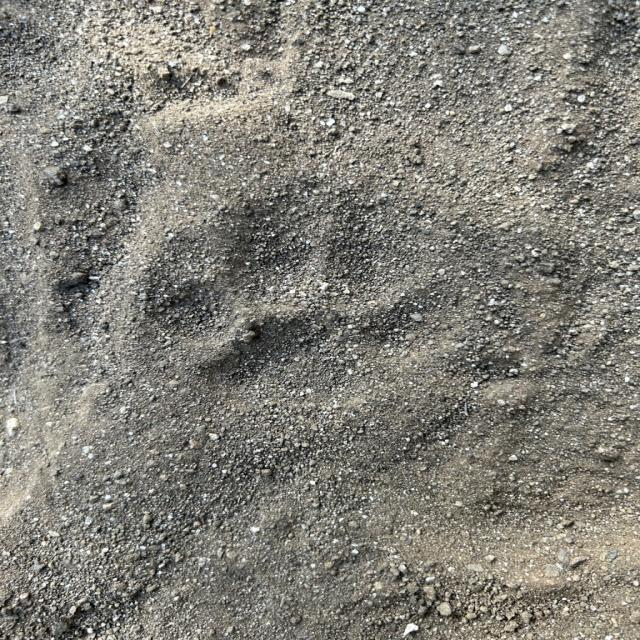felid: (167, 238, 450, 408)
